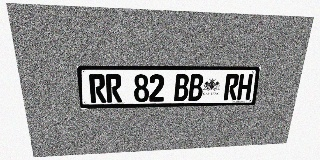2: (149, 74, 164, 102)
8: (134, 74, 149, 102)
B: (188, 74, 204, 101), (174, 74, 189, 101)
H: (237, 74, 253, 100)
R: (89, 74, 106, 103), (105, 74, 122, 103), (223, 74, 240, 100)
